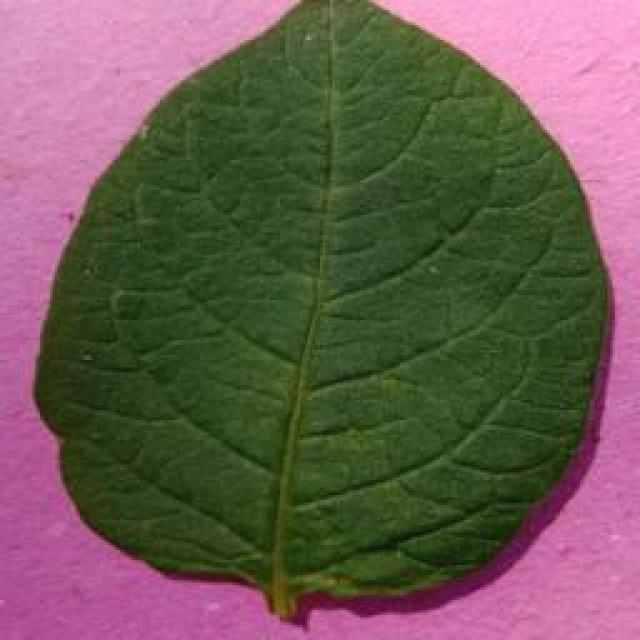Potato_Healthy: (38, 1, 604, 616)
